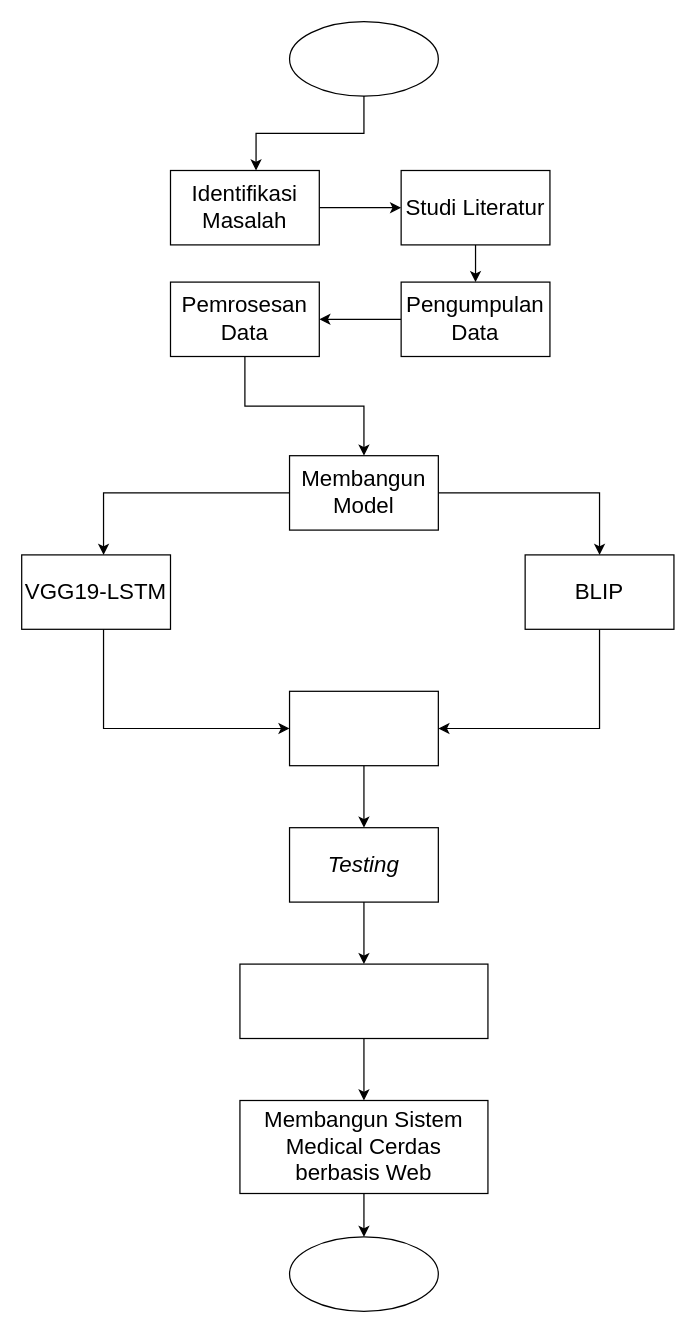
The diagram is 696 pixels wide and 1333 high, and some of its shapes have lost their labels. The box of each missing label's shape, as (x1, y1, x2, y2) in pixels:
Mulai: (288, 20, 438, 96)
Perbandingan Hasil: (239, 963, 488, 1038)
Selesai: (288, 1236, 438, 1311)
Training: (288, 690, 438, 766)
